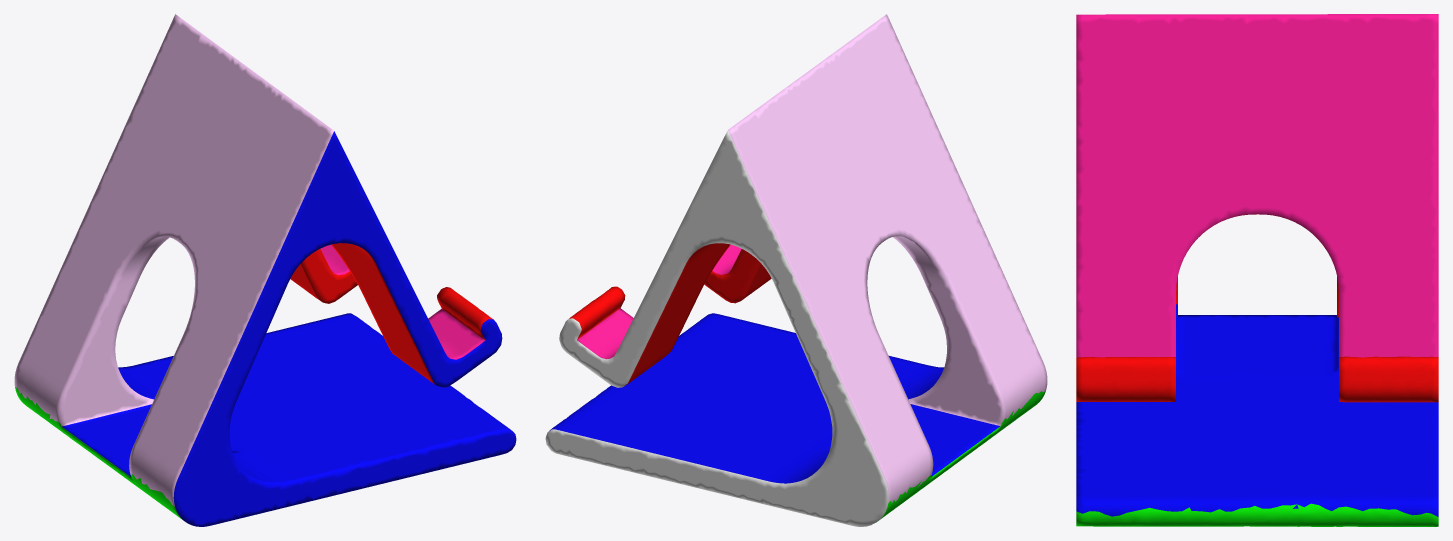
File: model_37917_segmented.obj
3 renders of one model, left to right at view 1: azimuth 30°, elevation 25°; view 2: azimuth 150°, elevation 25°; view 3: azimuth 270°, elevation 25°, orthographic. The views are drawn at different scales.
Size of the model in its own units: 83.56 by 84.99 by 67.
